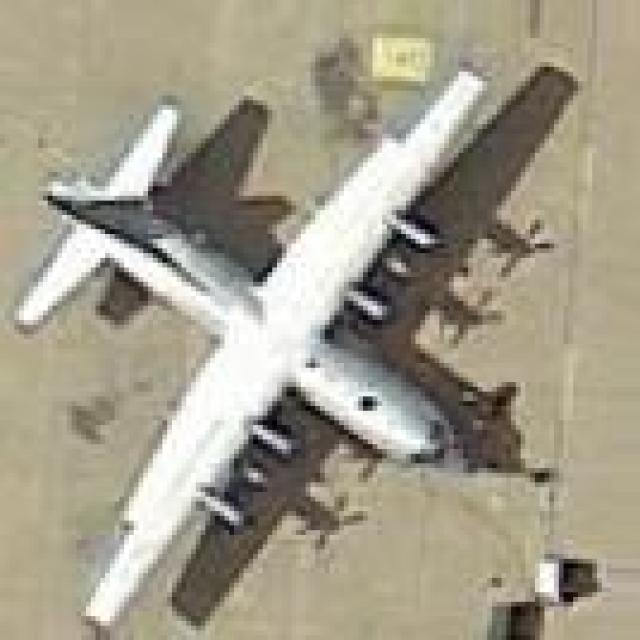C-130_TopDown: (0, 46, 578, 640)
